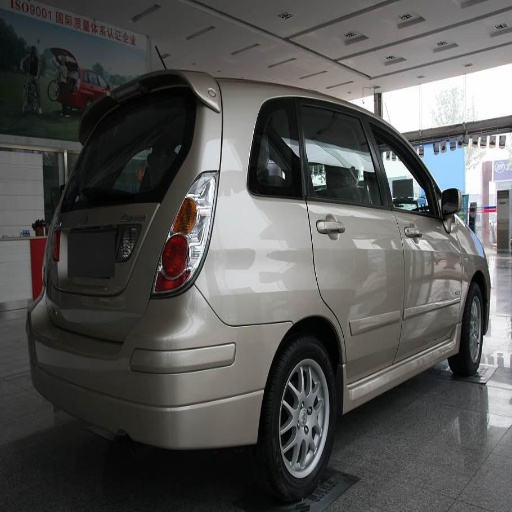back_bumper: (31, 283, 284, 450)
back_right_door: (258, 97, 404, 387)
tailgate: (51, 202, 159, 336)
